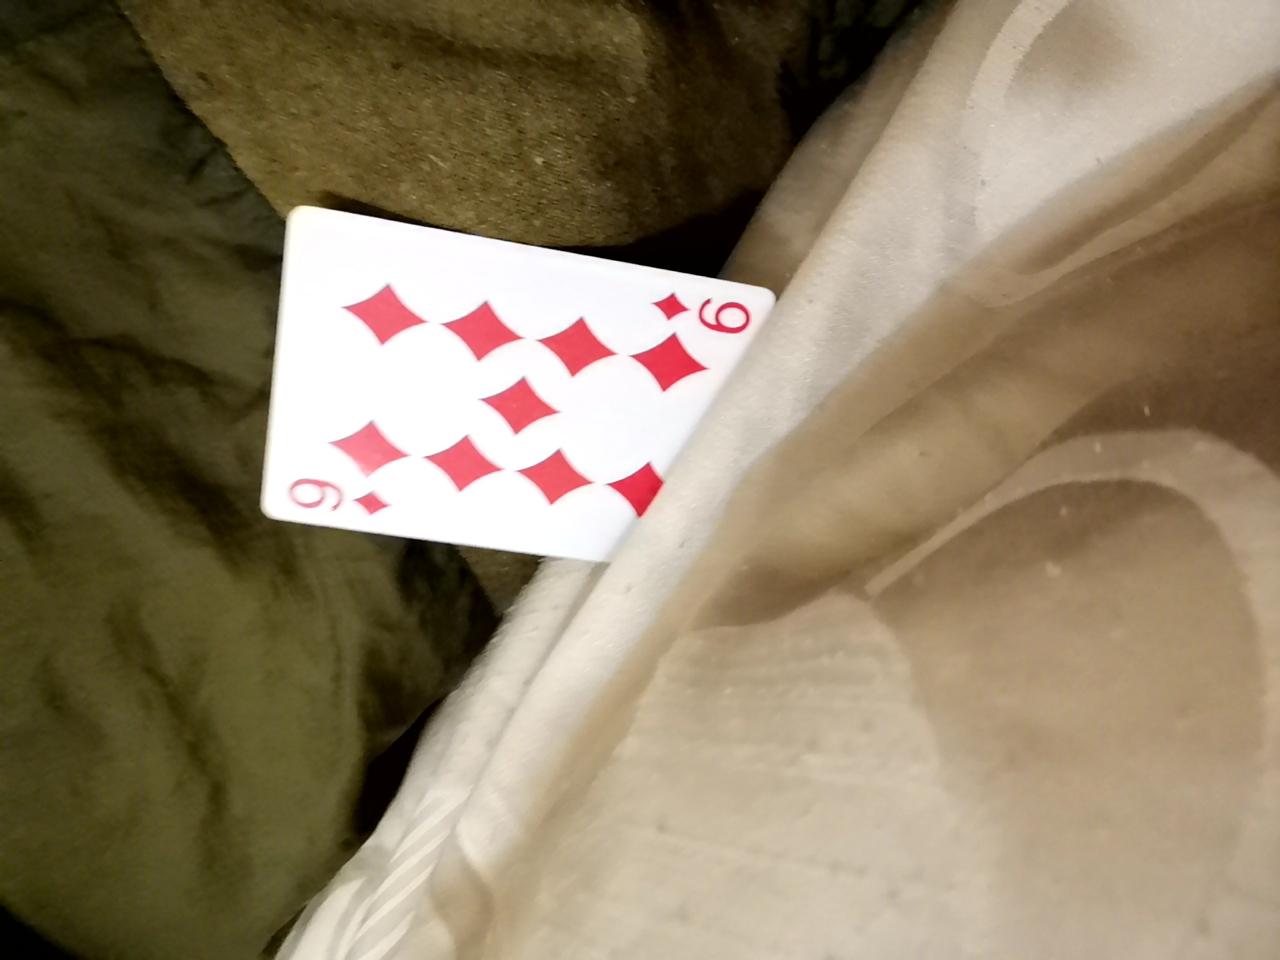fk 9: (266, 230, 803, 579)
